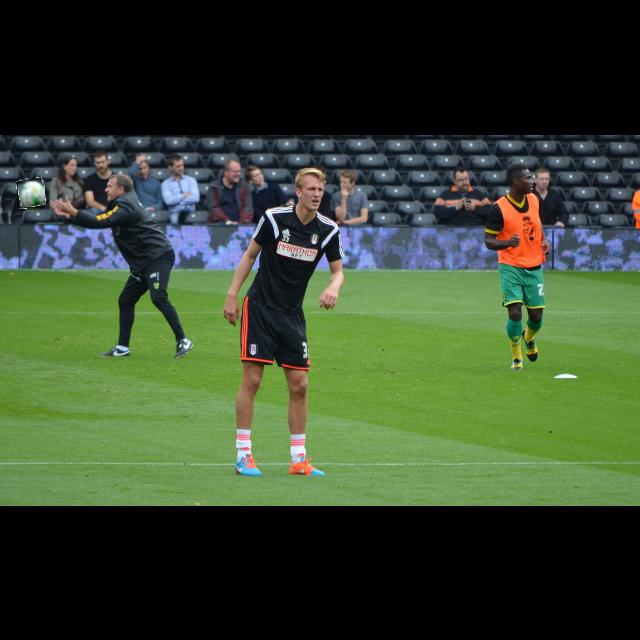Football: (17, 178, 45, 208)
